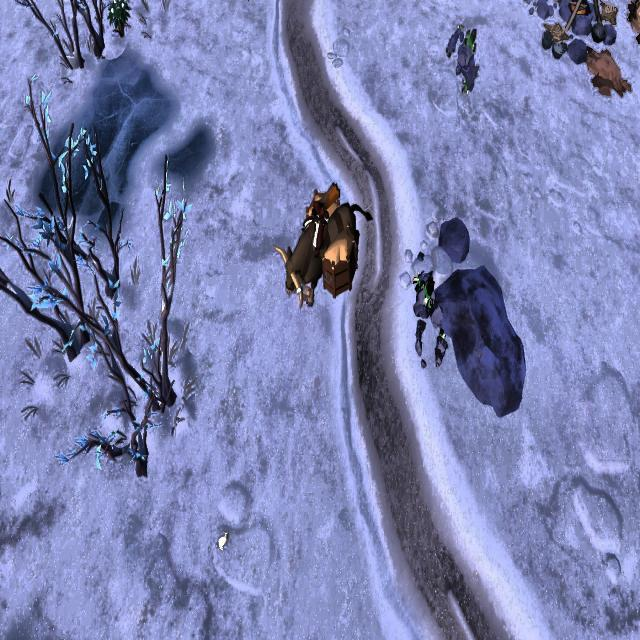fiber_t3: (107, 0, 131, 36)
